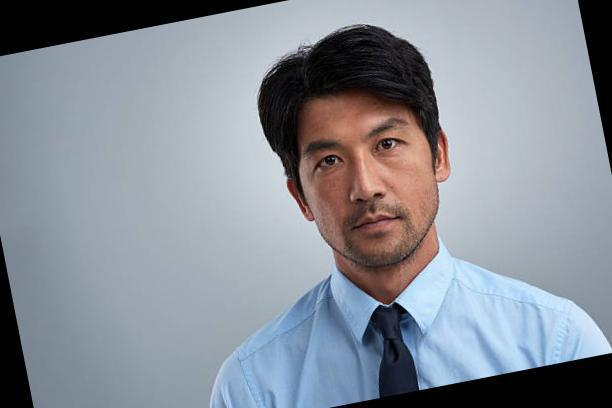Sober: (300, 96, 427, 260)
